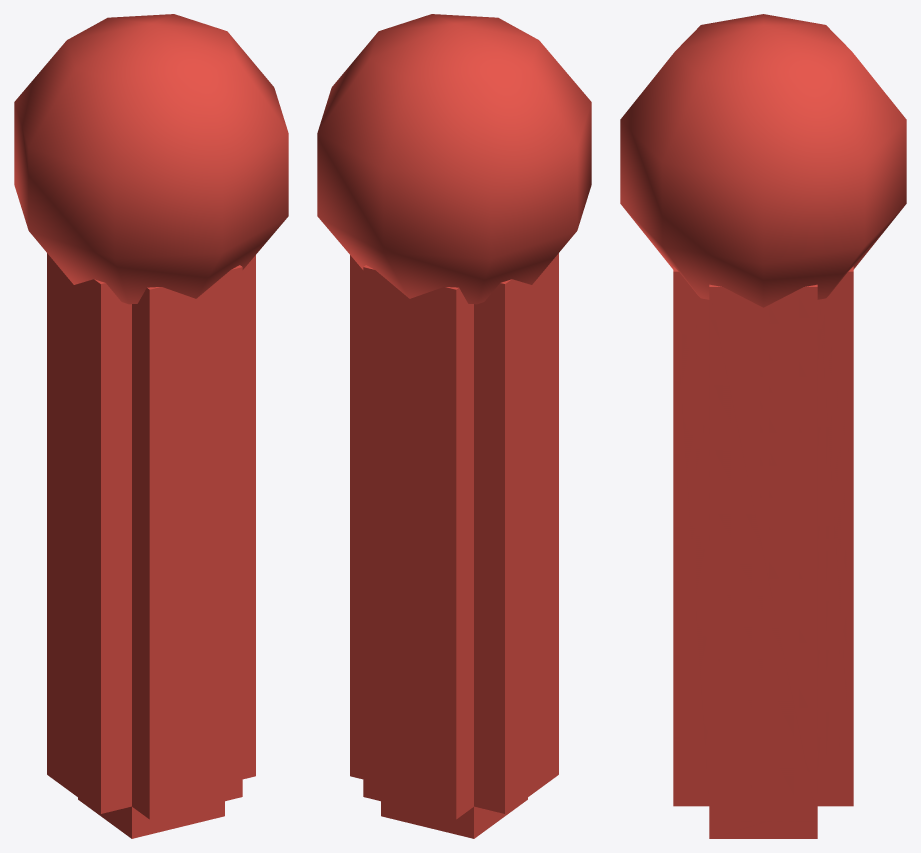
File: forklift_handle.glb
The picture shows the model from 3 angles, left to right: view 1: azimuth 30°, elevation 25°; view 2: azimuth 150°, elevation 25°; view 3: azimuth 270°, elevation 25°; orthographic projection.
Parts seen in each view (by area): view 1: forklift_handle; view 2: forklift_handle; view 3: forklift_handle.
Part boxes in pixels (x1,y1,x2,y2): forklift_handle: [14, 14, 288, 838]; forklift_handle: [317, 14, 591, 838]; forklift_handle: [620, 14, 906, 838].
Size of the model in its own units: 0.0951 by 0.29 by 0.0951.
